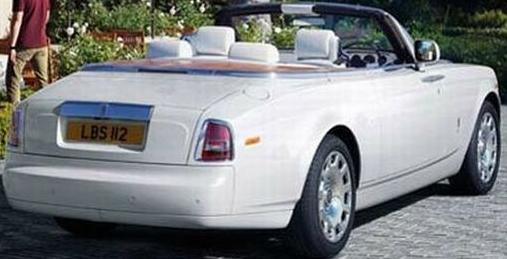back_view: (0, 94, 311, 233)
backlight: (191, 110, 253, 179)
